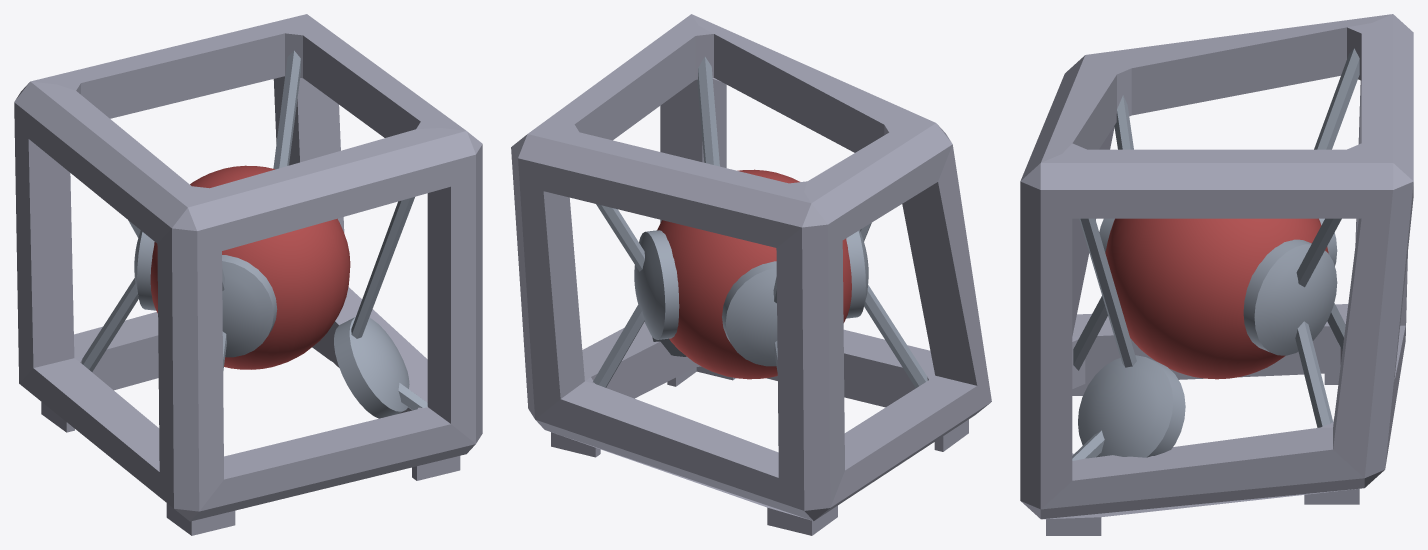
Rendered from Sphere_002_geometry-panic-factory_001.fbx.
3 renders of one model, left to right at view 1: azimuth 30°, elevation 25°; view 2: azimuth 150°, elevation 25°; view 3: azimuth 270°, elevation 25°, orthographic. The views are drawn at different scales.
Visible parts, largest first — view 1: Sphere.002.geometry-panic-factory.001; view 2: Sphere.002.geometry-panic-factory.001; view 3: Sphere.002.geometry-panic-factory.001.
Part boxes in pixels (x1=…): Sphere.002.geometry-panic-factory.001: x1=14, y1=14, x2=482, y2=535; Sphere.002.geometry-panic-factory.001: x1=511, y1=14, x2=991, y2=535; Sphere.002.geometry-panic-factory.001: x1=1020, y1=14, x2=1413, y2=535.
Bounding box in the file's own units: 0.95 × 1 × 0.95.
